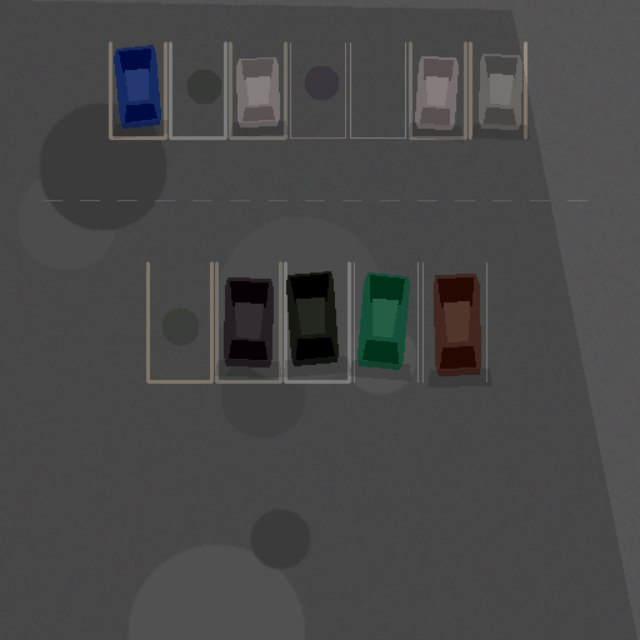space-empty: (147, 263, 211, 381), (170, 42, 225, 138), (290, 42, 345, 138), (350, 42, 405, 138)
space-occupied: (216, 263, 280, 381), (285, 263, 349, 381), (354, 263, 417, 381), (423, 263, 486, 381), (110, 42, 165, 138), (230, 42, 285, 138), (410, 42, 465, 138), (470, 42, 525, 138)
